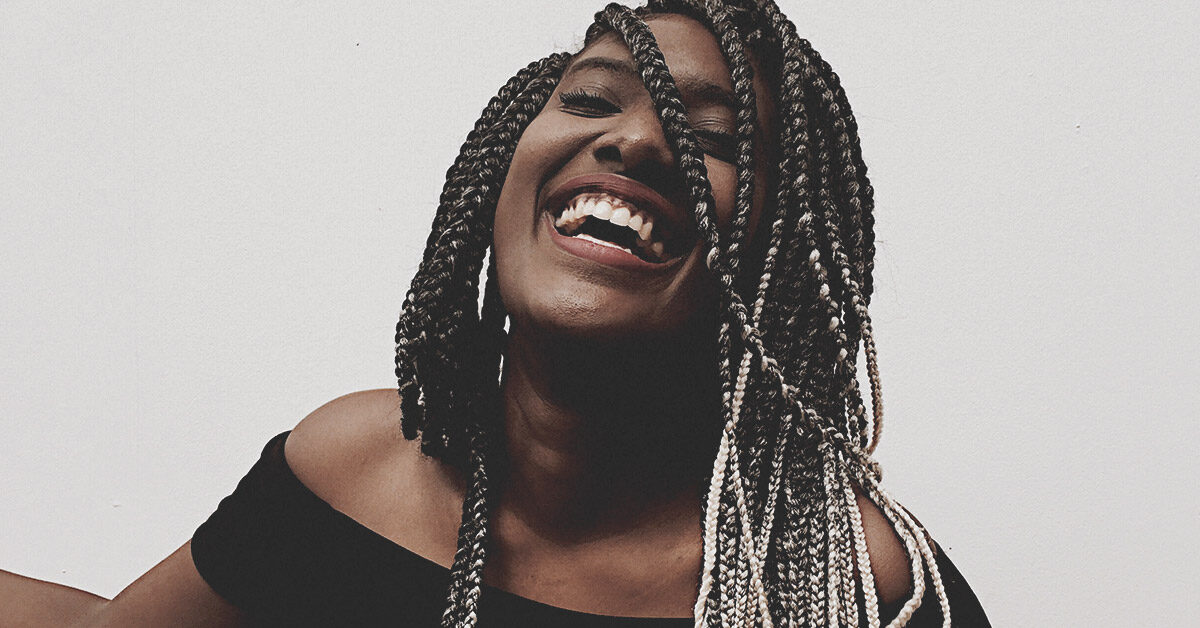Without Helmet: (391, 1, 892, 445)
